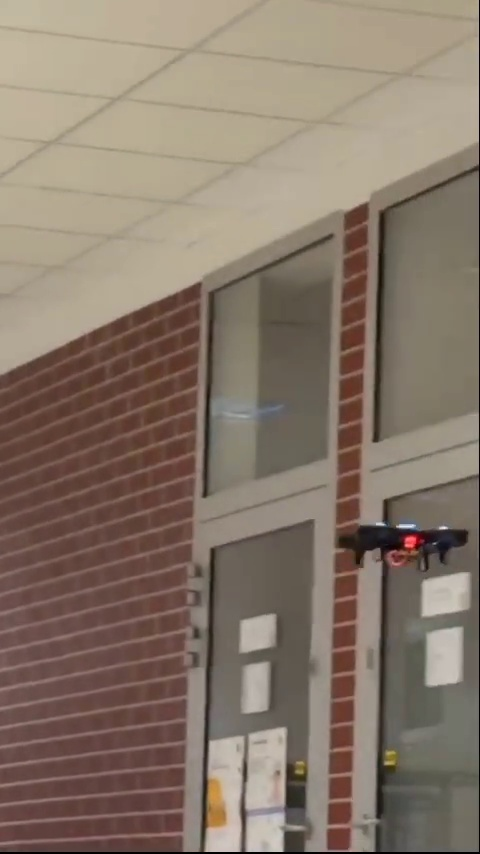drone: (333, 520, 469, 578)
